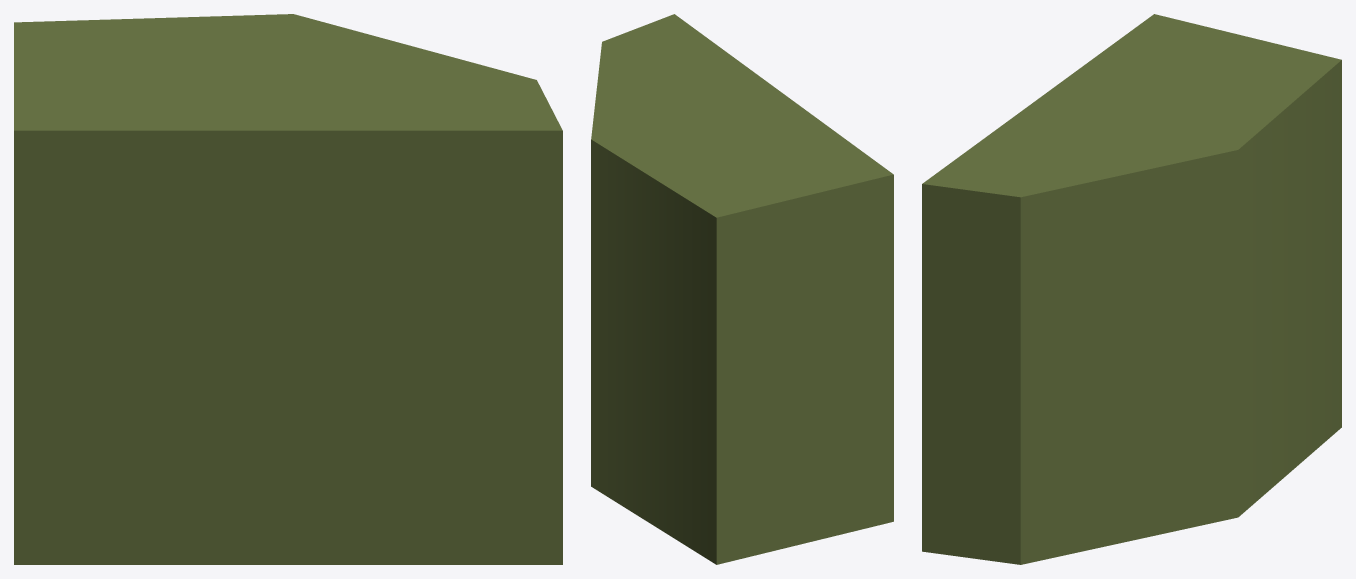
The model's file is ground_26.fbx.
3 renders of one model, left to right at view 1: azimuth 30°, elevation 25°; view 2: azimuth 150°, elevation 25°; view 3: azimuth 270°, elevation 25°, orthographic. The views are drawn at different scales.
Visible parts, largest first — view 1: ground_26; view 2: ground_26; view 3: ground_26.
Part boxes in pixels (x1,y1,x2,y2): ground_26: (14,14,562,564); ground_26: (591,14,893,564); ground_26: (922,14,1341,564).
Bounding box in the file's own units: 4.97 × 4.65 × 4.81.
